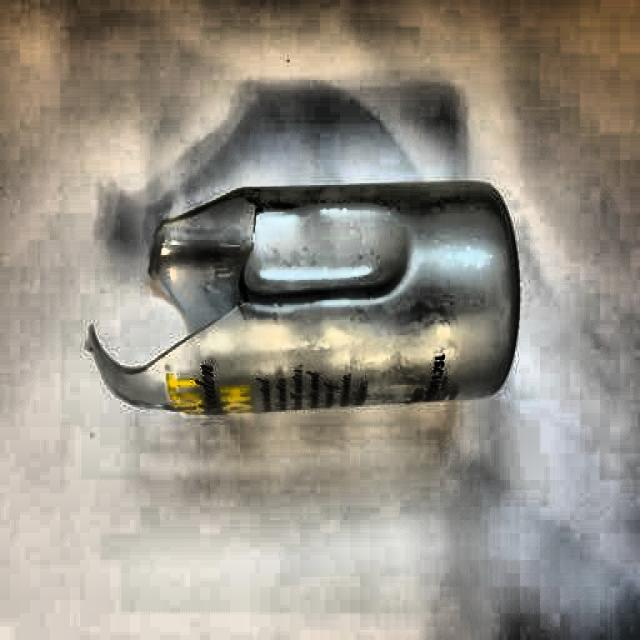glass: (80, 179, 522, 420)
